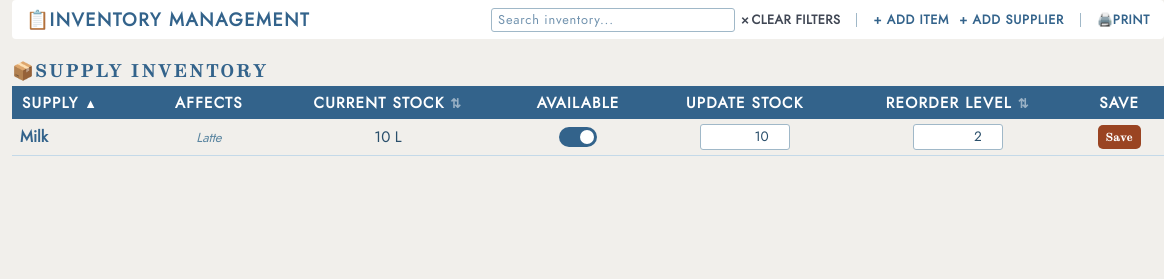
Scenario: AdminInventoryPage › updates ingredient stock and shows unavailable badge after save
Check: the text "Milk" is shown, box [20, 126, 48, 148]
Replace the text in the 1st number field with "0". click: (745, 137)
box: [700, 124, 790, 150]
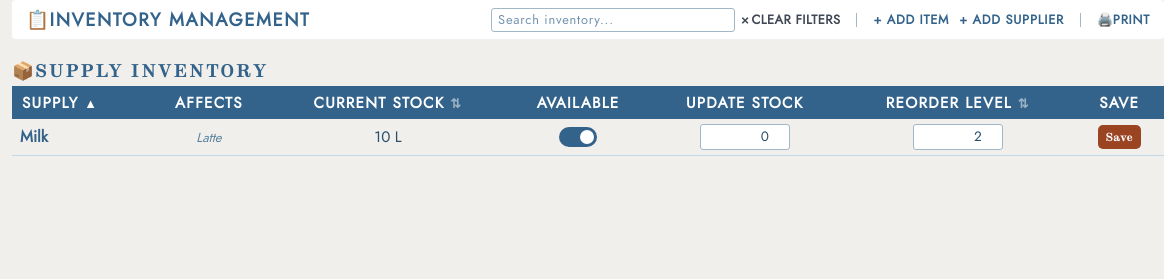
Replace the text in the 2nd number field with "0". click: (958, 137)
box: [913, 124, 1003, 150]
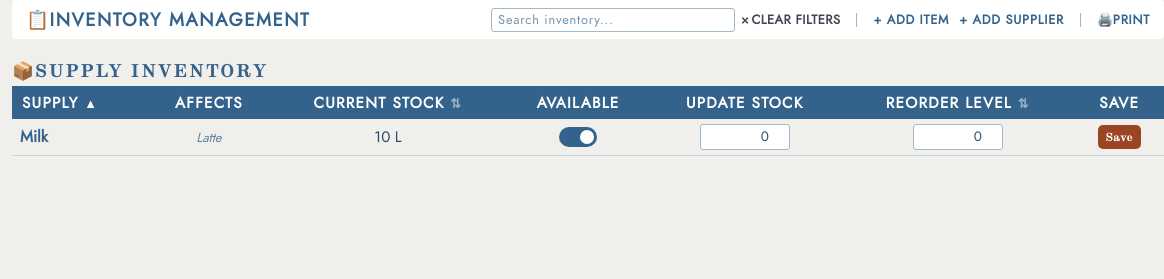
Click the button "Save". click: (1119, 137)
box: [1098, 125, 1141, 149]
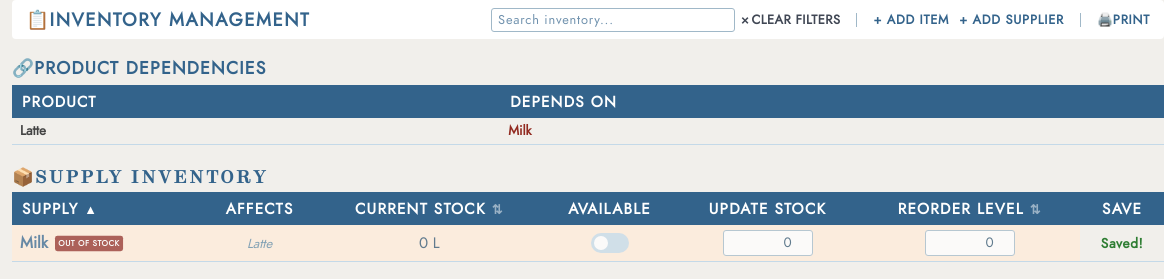
Check: the text "Out of Stock" is shown, box [55, 235, 123, 251]
